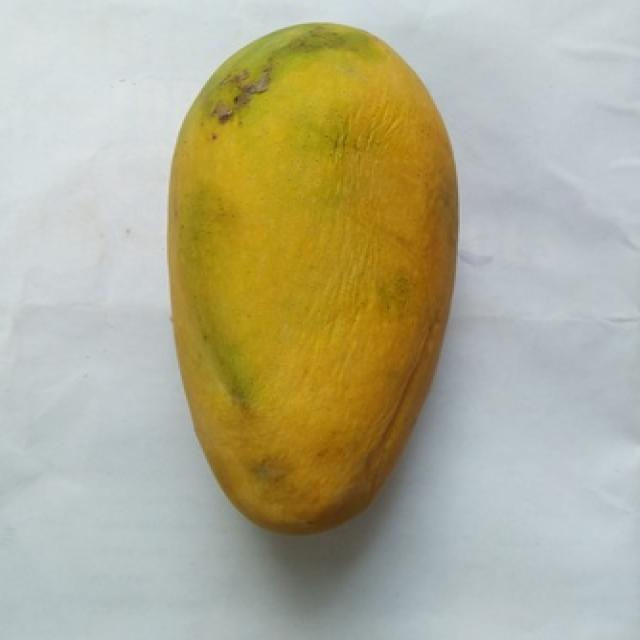Mango: (169, 24, 456, 533)
